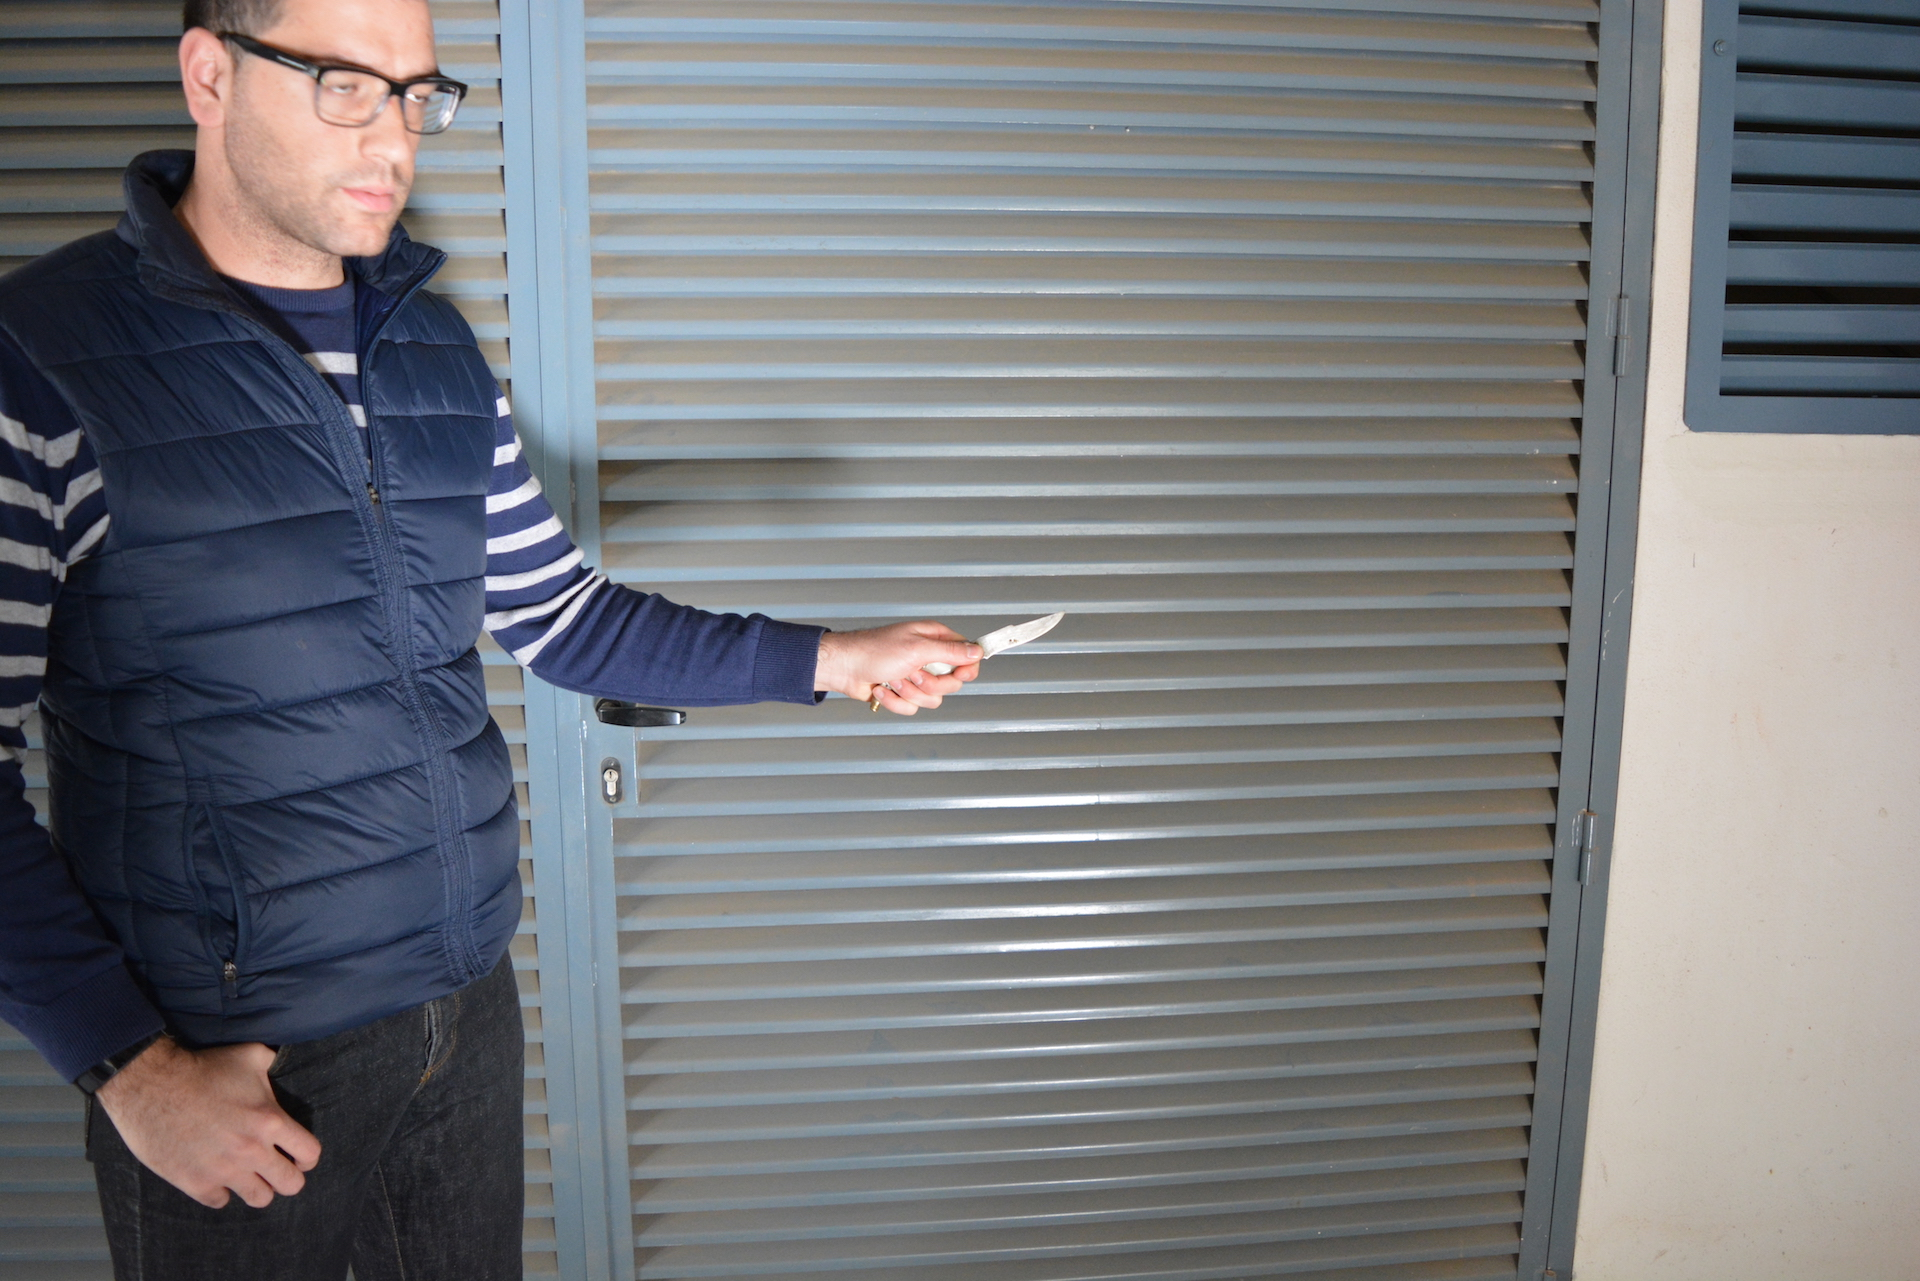knife: (863, 603, 1075, 718)
